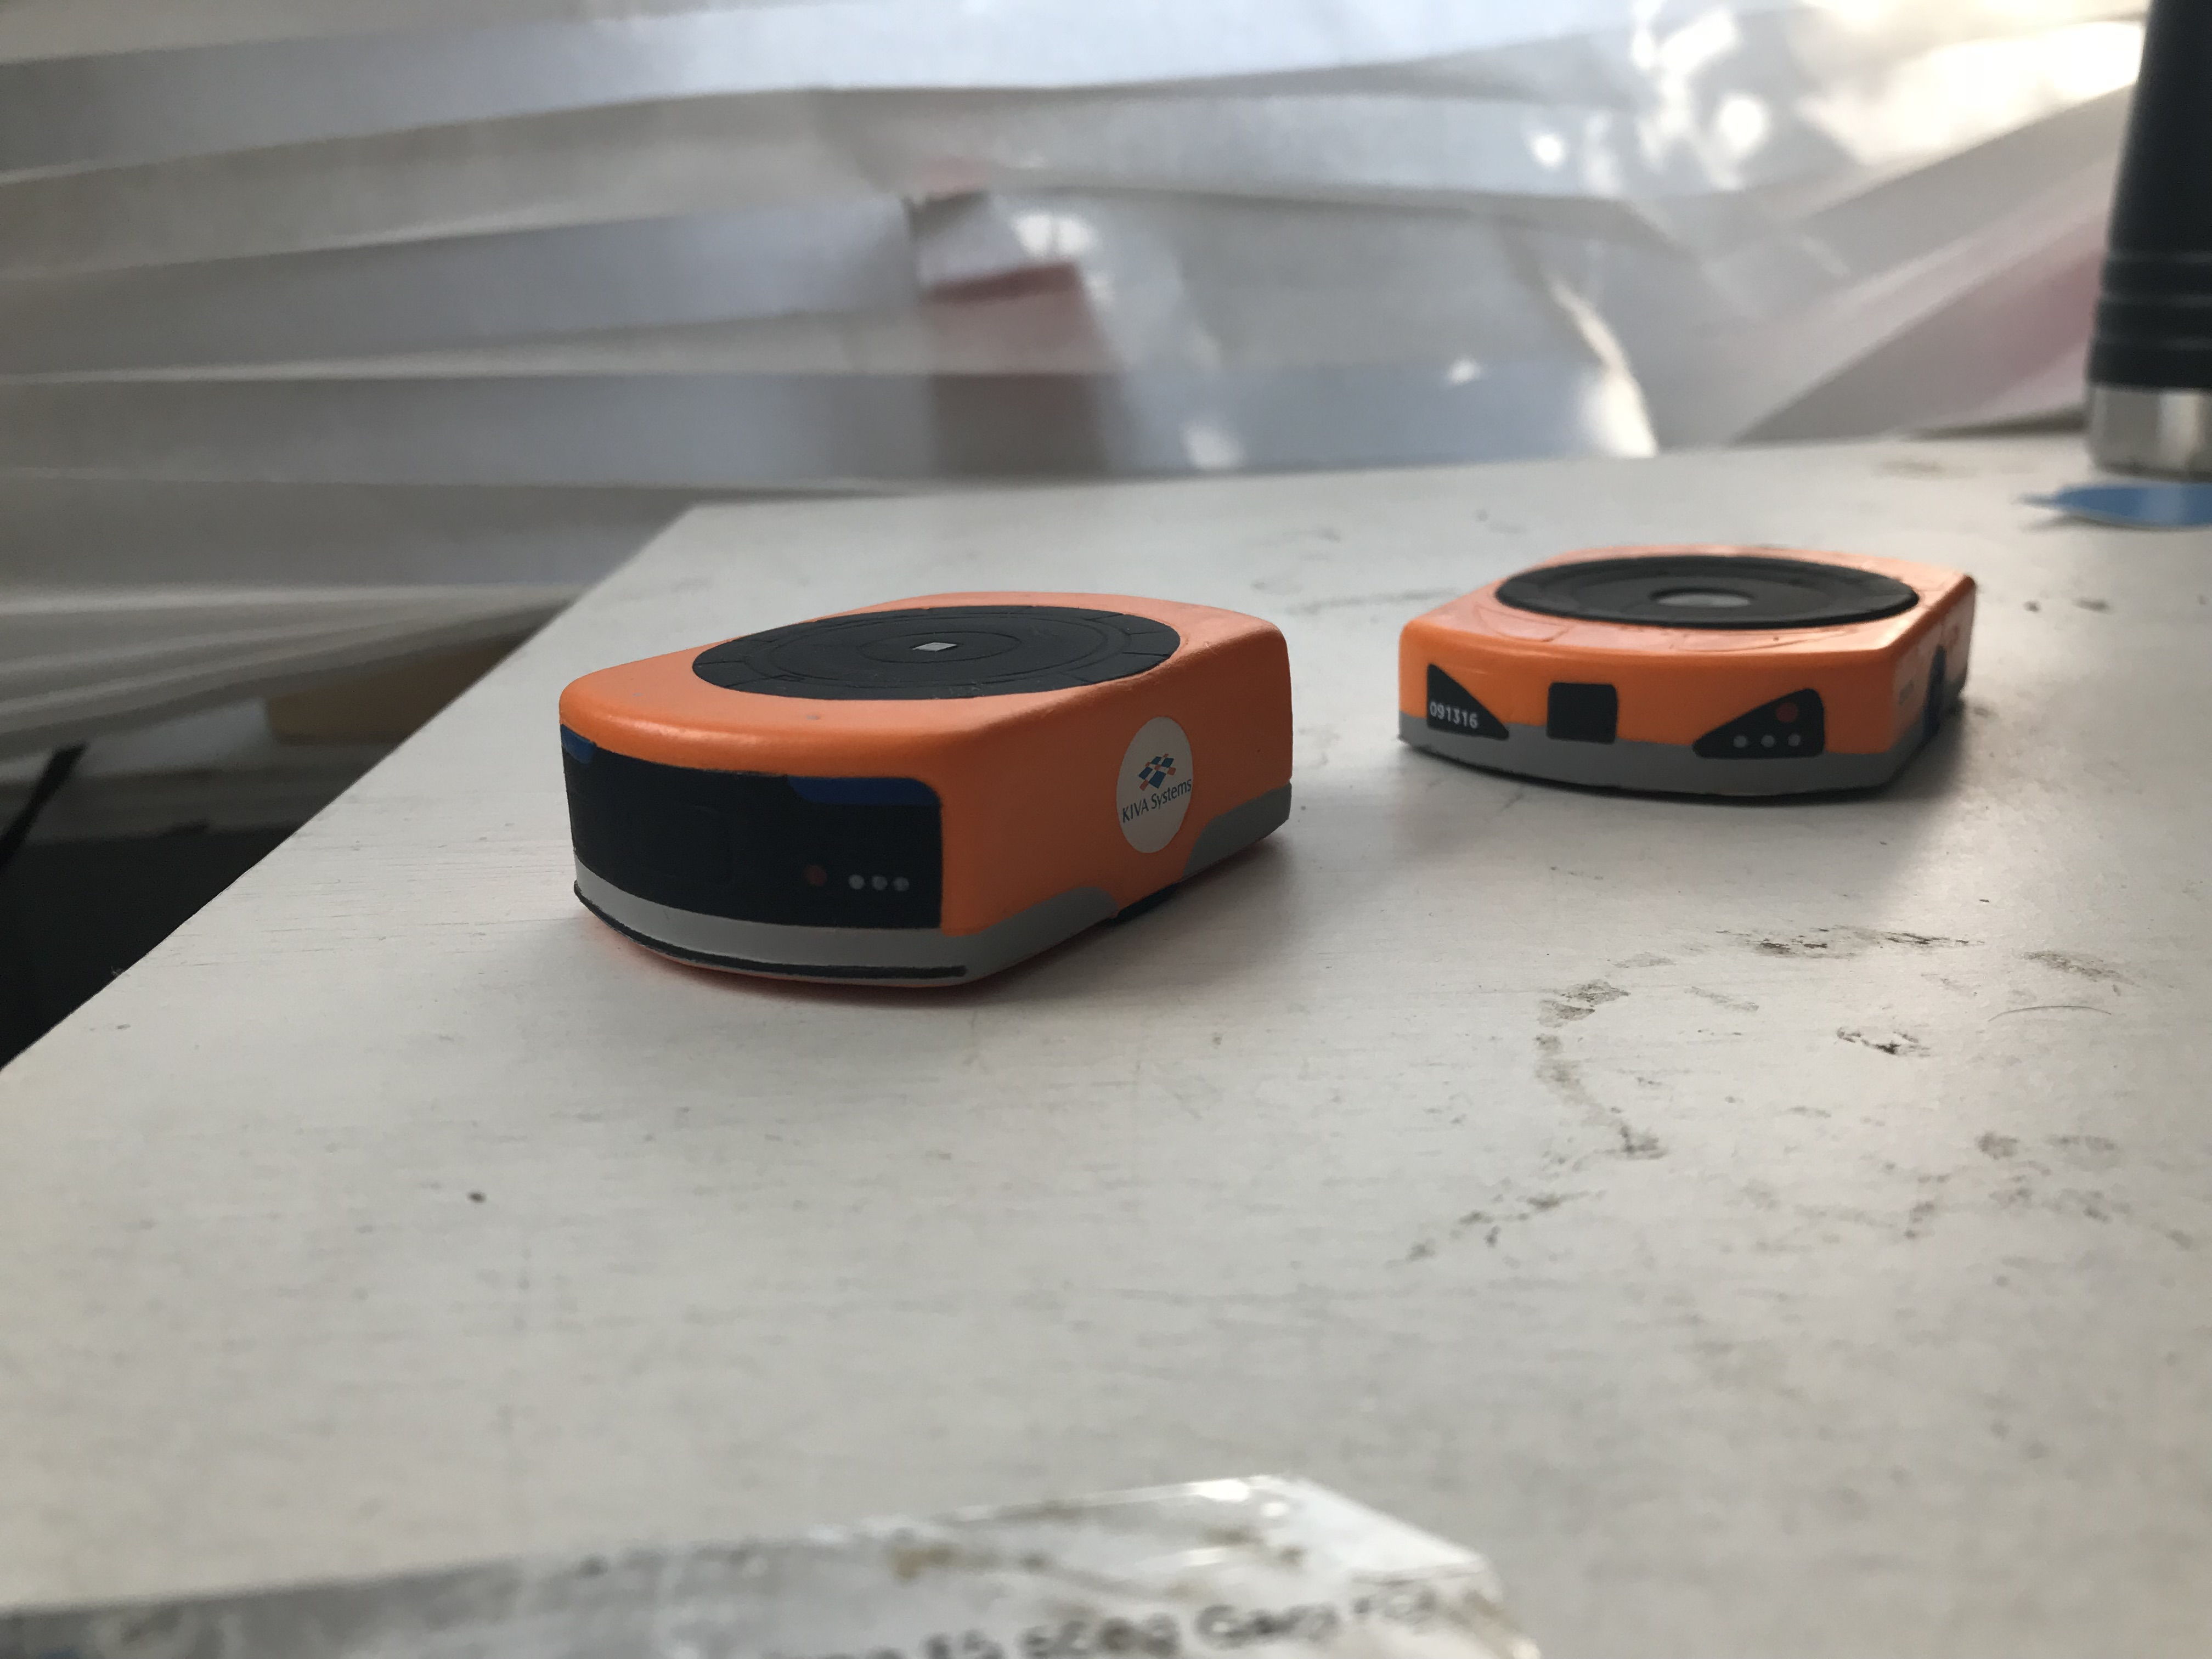amazon_bot: (545, 577, 1306, 1007), (1381, 544, 1998, 812)
